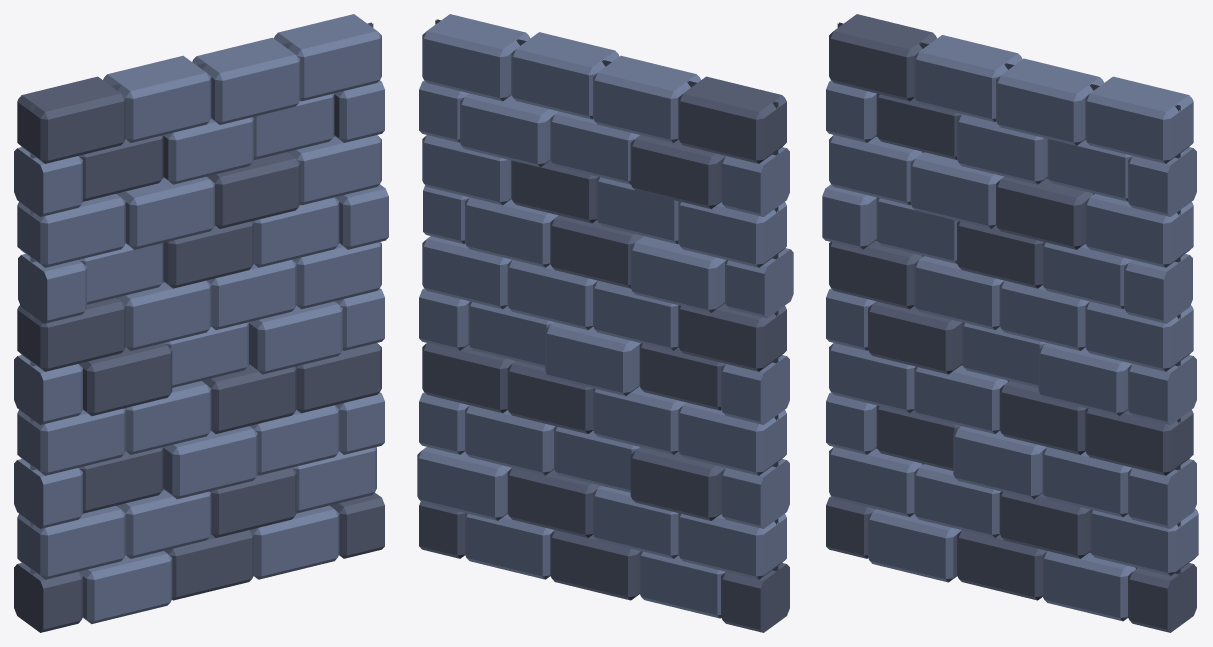
Rendered from brick-wall-001.glb.
The picture shows the model from 3 angles, left to right: view 1: azimuth 30°, elevation 25°; view 2: azimuth 150°, elevation 25°; view 3: azimuth 330°, elevation 25°; orthographic projection.
Visible parts, largest first — view 1: brick wall.001; view 2: brick wall.001; view 3: brick wall.001.
Part boxes in pixels (box(x1,y1,x2,y2)): brick wall.001: box(14, 14, 388, 632); brick wall.001: box(417, 14, 793, 632); brick wall.001: box(822, 14, 1198, 632).
Bounding box in the file's own units: 2 × 2.91 × 0.3865.
